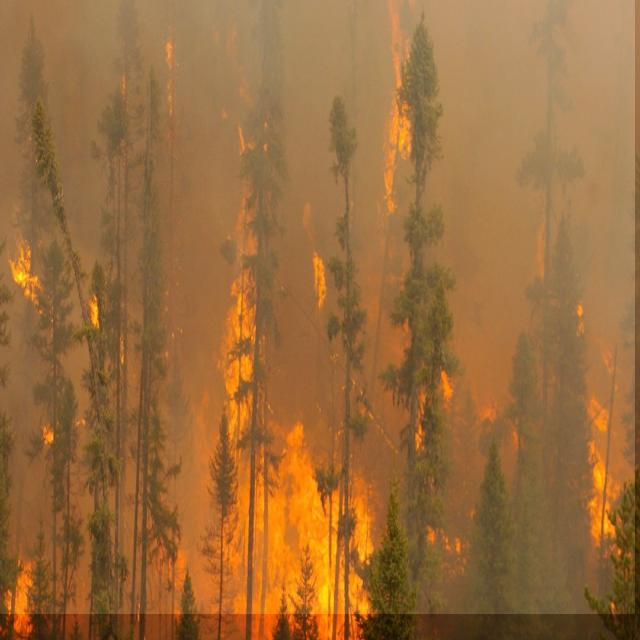Fire: (0, 0, 635, 614)
